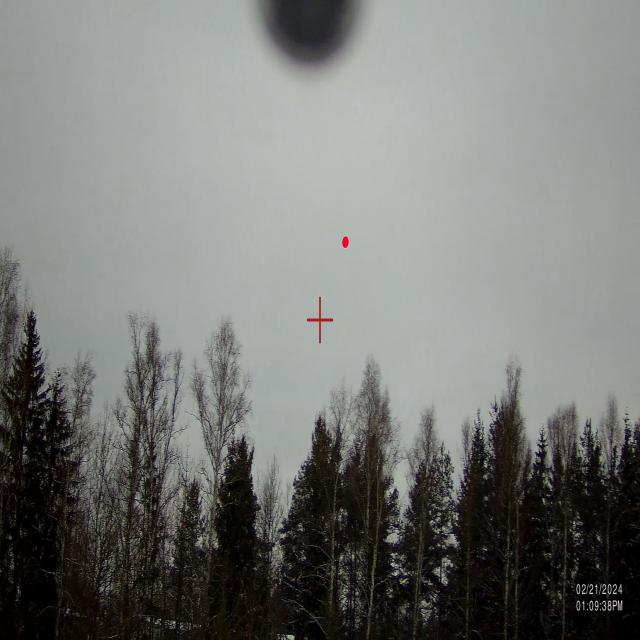entire: (337, 227, 351, 251)
